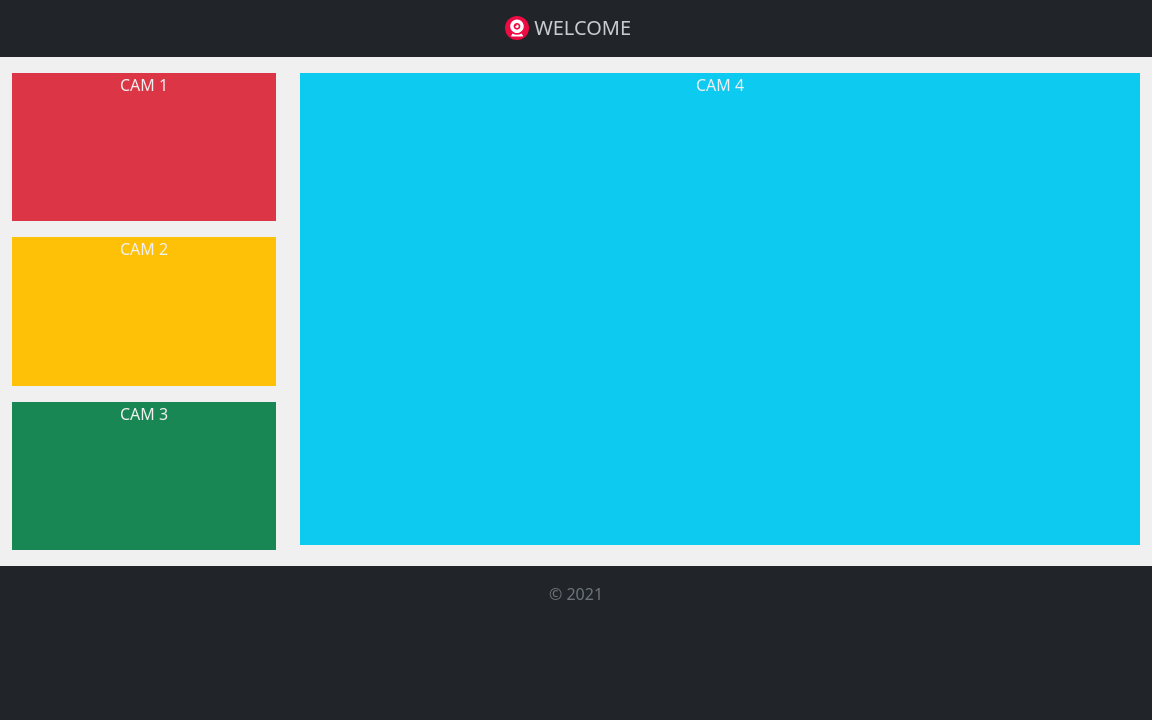
Test case: Integration › switches the main camera
Step 1. Click the element with class "CamPlaceholder--Identifier1" → (144, 148), box left=12, top=73, right=276, bottom=222
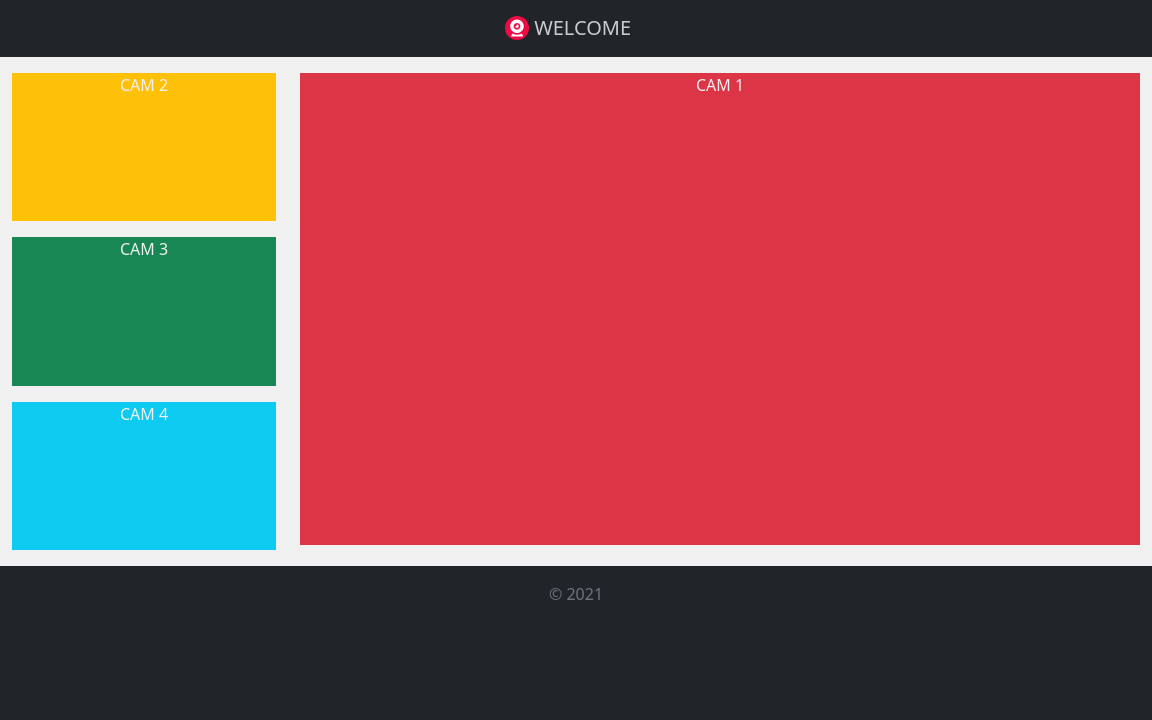
Expected: the text "CAM 2" is shown, left=120, top=74, right=168, bottom=96
Result: the text "CAM 4" is shown at left=120, top=403, right=168, bottom=425
Result: the text "CAM 1" is shown at left=288, top=73, right=1151, bottom=550
